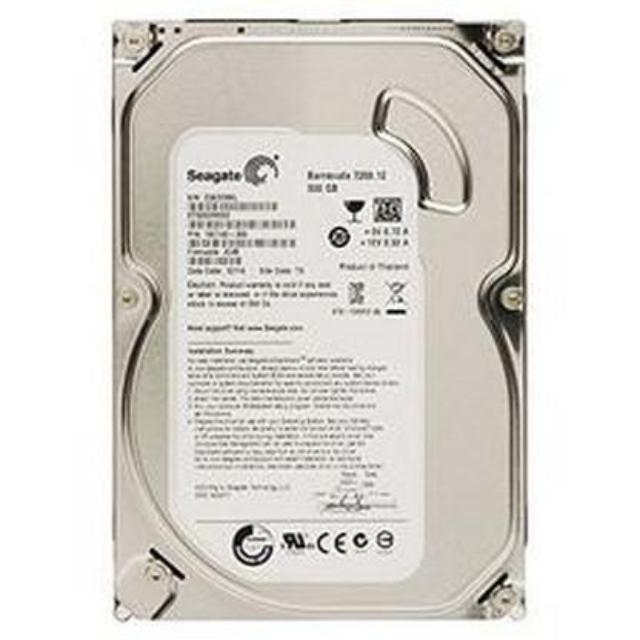DISK: (104, 9, 530, 623)
